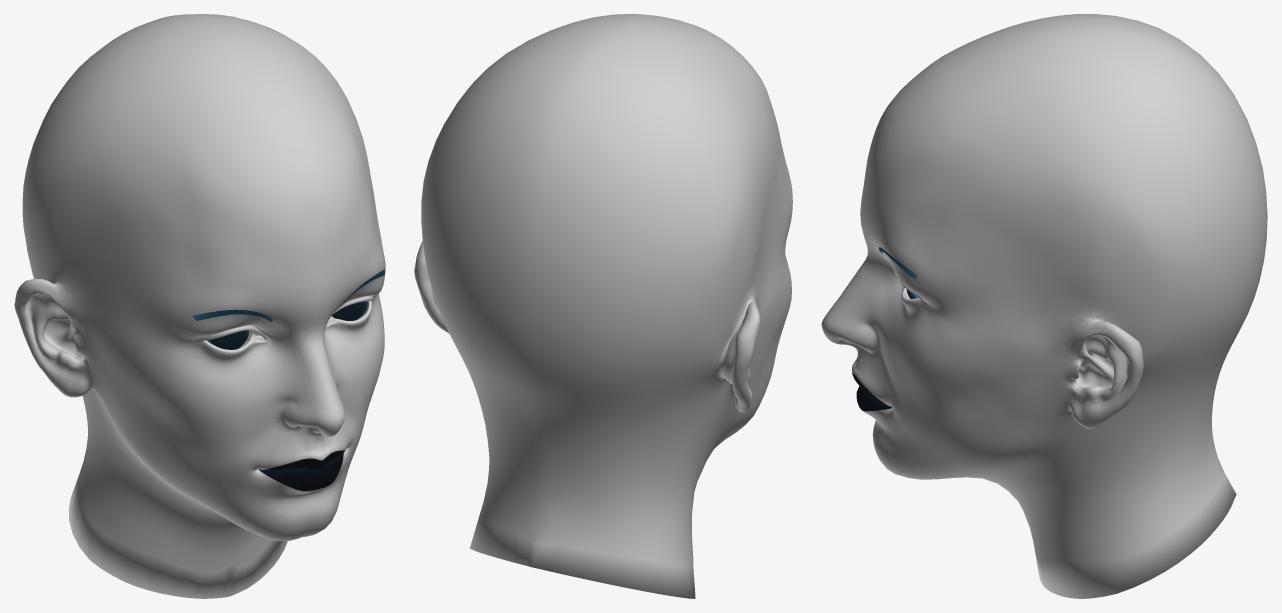
File: Viki.gltf
3 renders of one model, left to right at view 1: azimuth 30°, elevation 25°; view 2: azimuth 150°, elevation 25°; view 3: azimuth 270°, elevation 25°, orthographic. The views are drawn at different scales.
Parts seen in each view (by area): view 1: Viki; view 2: Viki; view 3: Viki.
Part boxes in pixels (box(x1,y1,x2,y2)): Viki: box(14, 14, 385, 598); Viki: box(414, 14, 792, 598); Viki: box(821, 14, 1267, 598).
Bounding box in the file's own units: 1.27 × 2.01 × 1.48.
